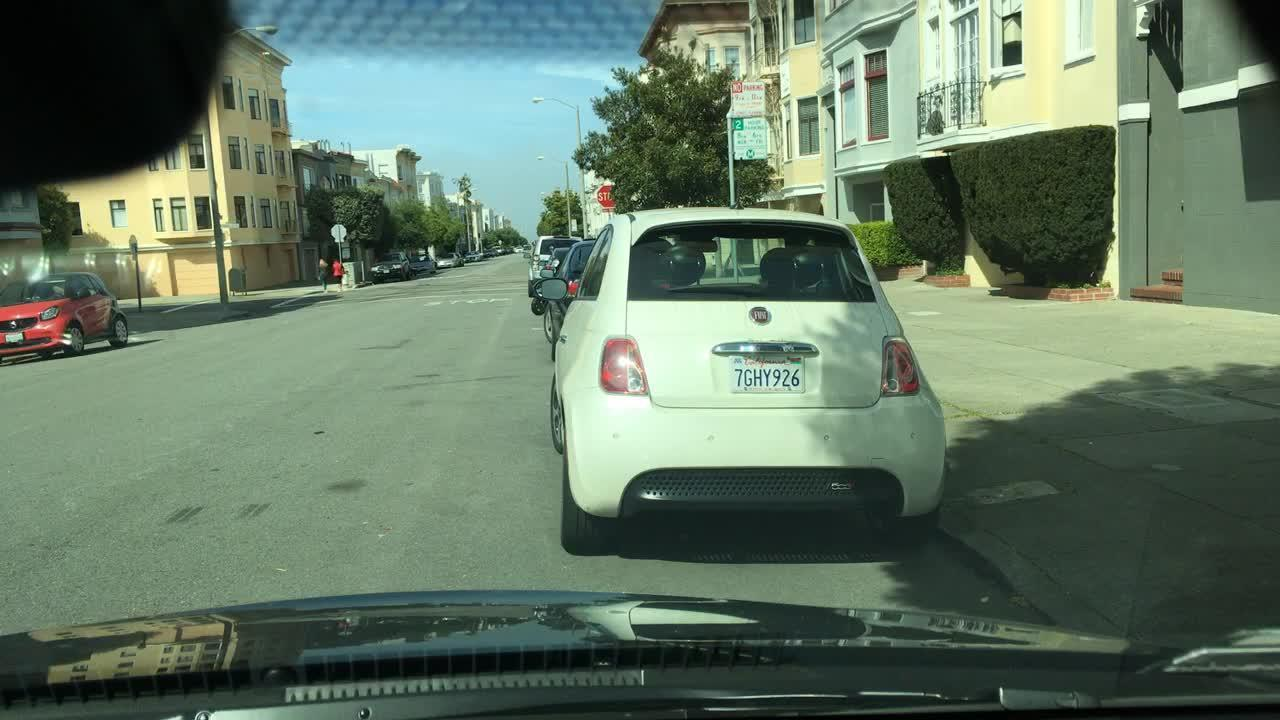no class: (747, 300, 772, 327)
